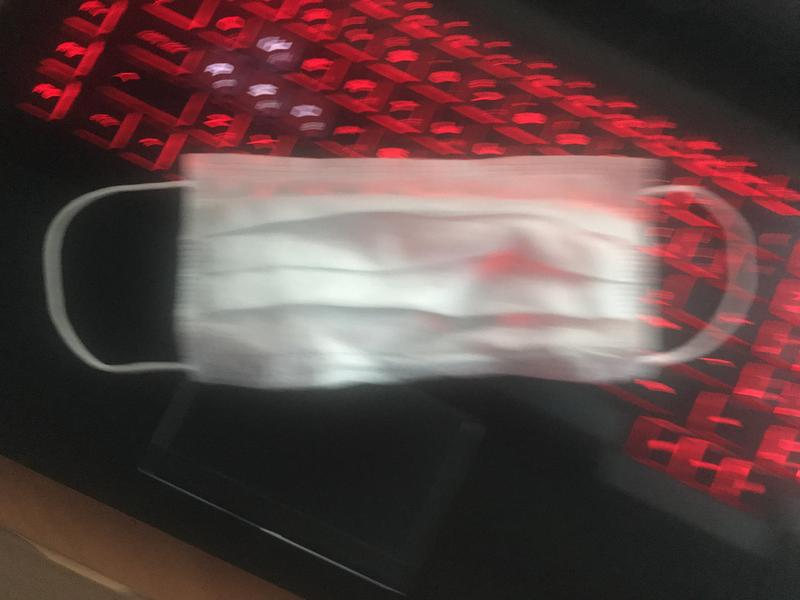medical_mask: (43, 153, 745, 382)
